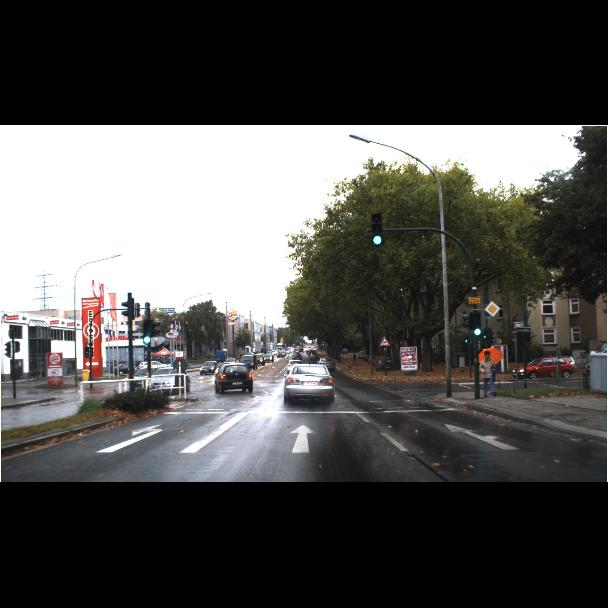slippery road: (379, 301, 501, 347)
